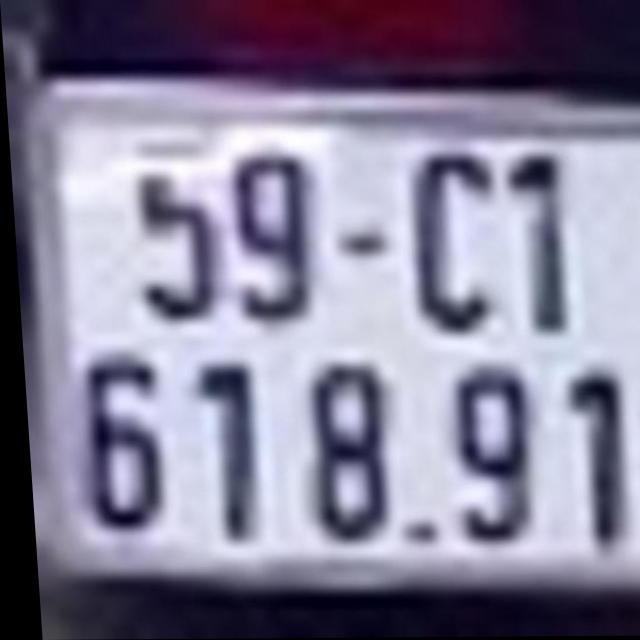1: (549, 369, 631, 549), (500, 145, 570, 340)
5: (130, 137, 217, 324)
6: (76, 350, 161, 528)
7: (193, 358, 252, 538)
8: (297, 354, 391, 541)
9: (441, 360, 530, 541), (225, 151, 307, 321)
K: (400, 147, 497, 339)
